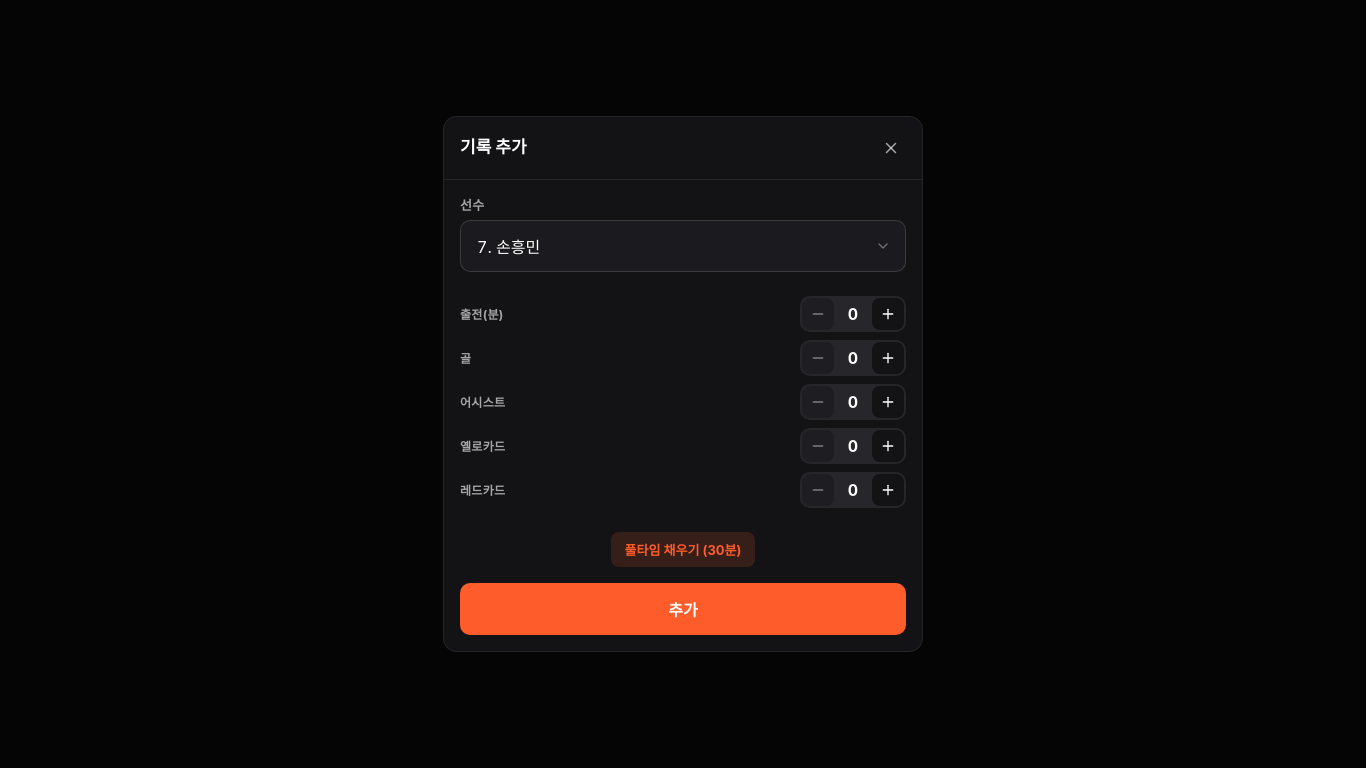
Test: RecordFormModal — 어시스트 무결성 › 남의 골 수까지만 어시스트를 올릴 수 있다
This screenshot has width=1366, height=768.
Click the button named "어시스트 증가" at (888, 402), box [872,386,904,418]
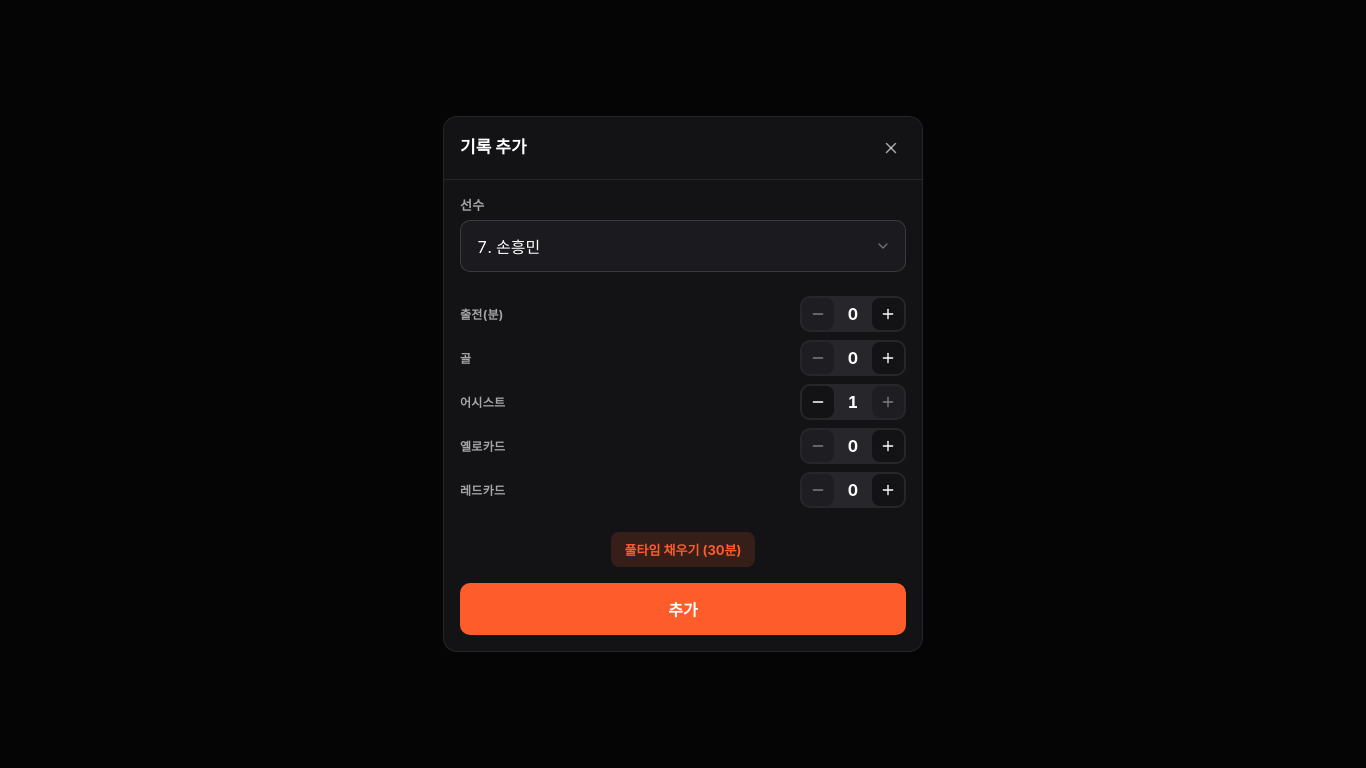
Expected: the button named "어시스트 증가" is disabled, [872,386,904,418]
